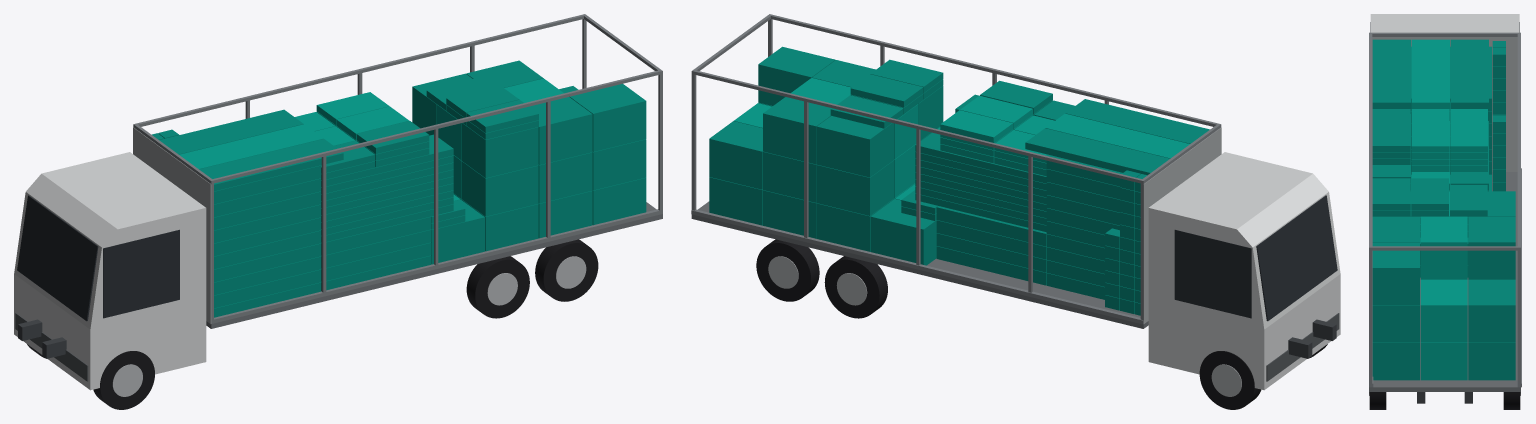
File: truck-CG09.glb
The picture shows the model from 3 angles, left to right: view 1: azimuth 30°, elevation 25°; view 2: azimuth 150°, elevation 25°; view 3: azimuth 270°, elevation 25°; orthographic projection. The views are drawn at different scales.
Parts seen in each view (by area): view 1: cabine, part23, janela, part120, part102, part99, part111, frente, part15, part65, piso, part67 (+54 smaller); view 2: cabine, part23, janela, piso, part104, part67, part119, part95, part101, part113, part17, frente (+54 smaller); view 3: part118, part119, piso, part113, part112, part120, cabine, part65, part66, part67, frente, part116 (+48 smaller).
Boxes of the visible parts, box(x1,y1,x2,y2) form: cabine: box(14, 152, 206, 390); part23: box(17, 195, 98, 321); janela: box(103, 229, 179, 318); part120: box(569, 84, 646, 151); part102: box(461, 123, 538, 178); part99: box(461, 161, 538, 216); part111: box(529, 97, 592, 164); frente: box(133, 127, 211, 323); part15: box(211, 209, 662, 323); part65: box(199, 139, 343, 191); piso: box(206, 202, 662, 328); part67: box(159, 109, 303, 154); cabine: box(1148, 152, 1340, 390); part23: box(1256, 195, 1337, 321); janela: box(1174, 229, 1251, 318); piso: box(691, 201, 1148, 328); part104: box(816, 116, 893, 177); part67: box(1025, 128, 1169, 175); part119: box(709, 121, 762, 189); part95: box(870, 199, 936, 265); part101: box(816, 160, 893, 215); part113: box(763, 97, 831, 164); part17: box(691, 209, 1143, 324); frente: box(1143, 127, 1221, 323); part118: box(1420, 280, 1467, 342); part119: box(1468, 280, 1515, 342); piso: box(1369, 172, 1520, 391); part113: box(1468, 217, 1515, 279); part112: box(1420, 217, 1467, 279); part120: box(1372, 242, 1419, 304); cabine: box(1370, 14, 1519, 32); part65: box(1372, 39, 1410, 108); part66: box(1411, 39, 1449, 108); part67: box(1450, 39, 1488, 108); frente: box(1372, 37, 1517, 171); part116: box(1468, 342, 1515, 380).
Bounding box in the file's own units: 11.24 × 3.78 × 2.58.
